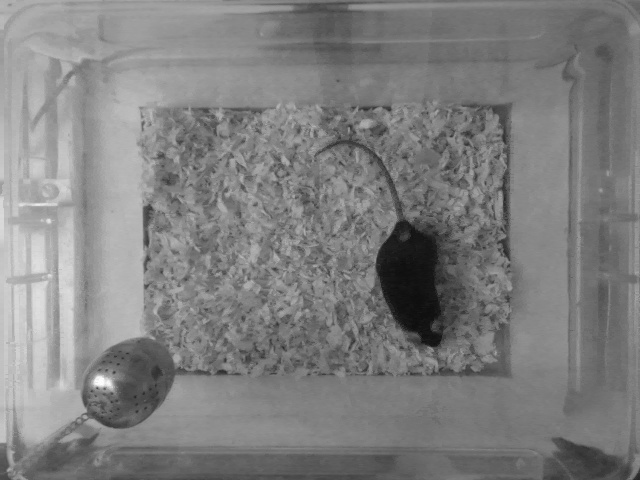mice: (314, 136, 444, 354)
